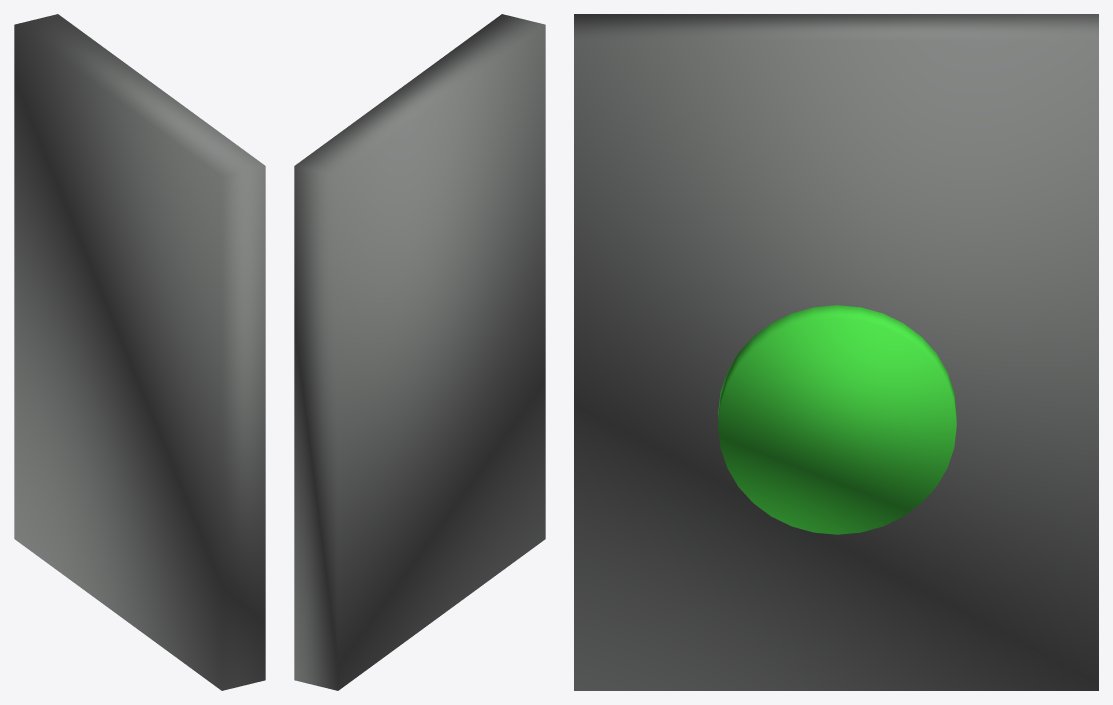
Rendered from simplebutton.fbx.
3 views of the same model, side by side, from view 1: azimuth 30°, elevation 25°; view 2: azimuth 150°, elevation 25°; view 3: azimuth 270°, elevation 25° (orthographic). The views are drawn at different scales.
Visible parts, largest first — view 1: Cube; view 2: Cube; view 3: Cube, Cylinder.
Boxes of the visible parts, x1,y1,x2,y2 form: Cube: (14,14,265,690); Cube: (294,14,545,690); Cube: (574,14,1098,690); Cylinder: (718,305,956,534).
Bounding box in the file's own units: 26.46 × 130 × 94.9.
